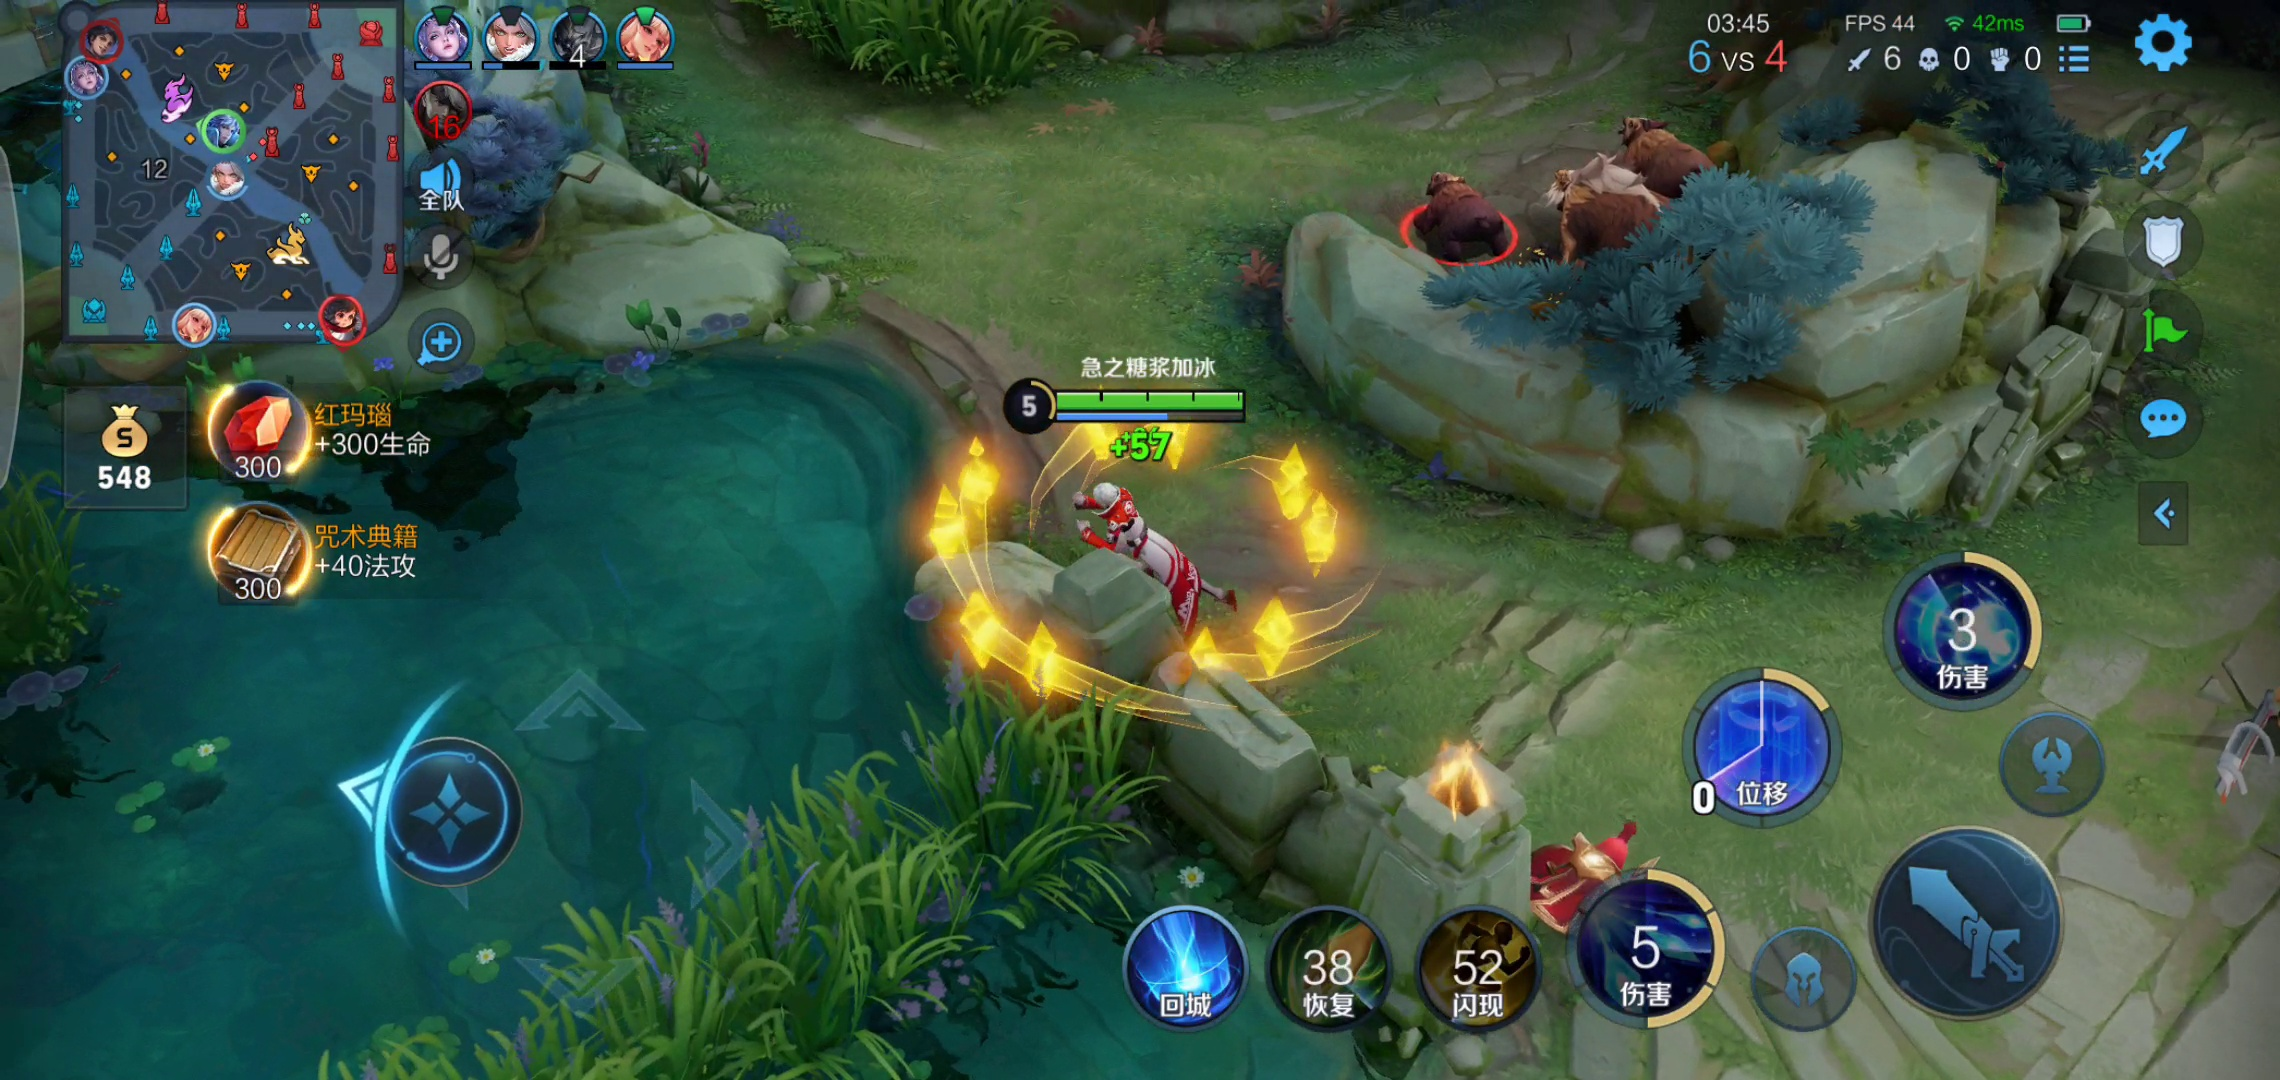grass: (353, 658, 1143, 1080), (798, 6, 1095, 113)
hero: (976, 464, 1284, 658)
wild_monster: (1380, 100, 1707, 286)
